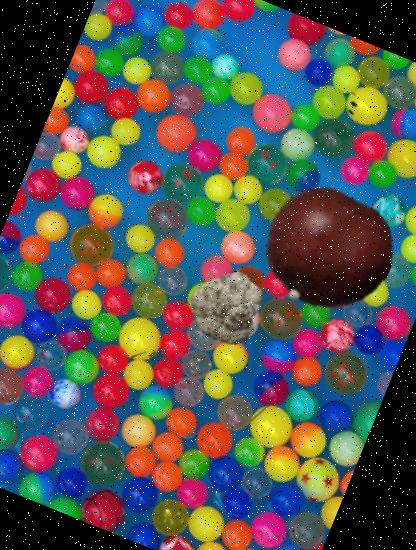Cauliflower: (179, 258, 277, 356)
Nectarine: (246, 169, 411, 334)
